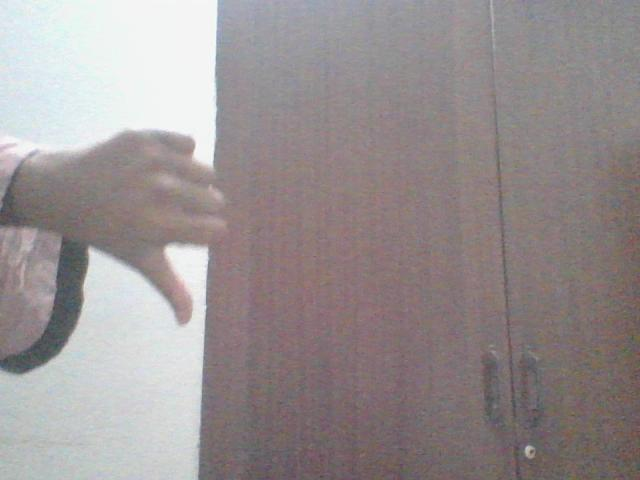thumbs-down: (91, 117, 240, 327)
